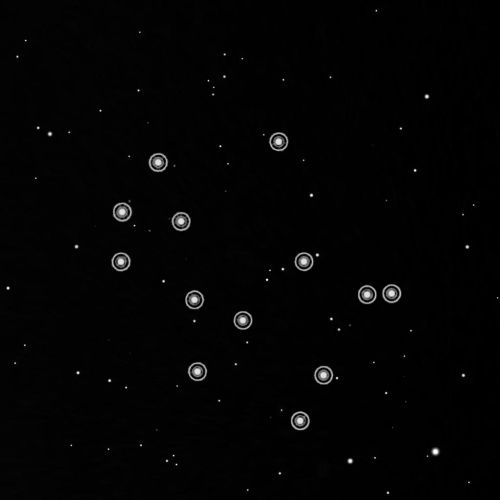gemini: (105, 129, 406, 434)
